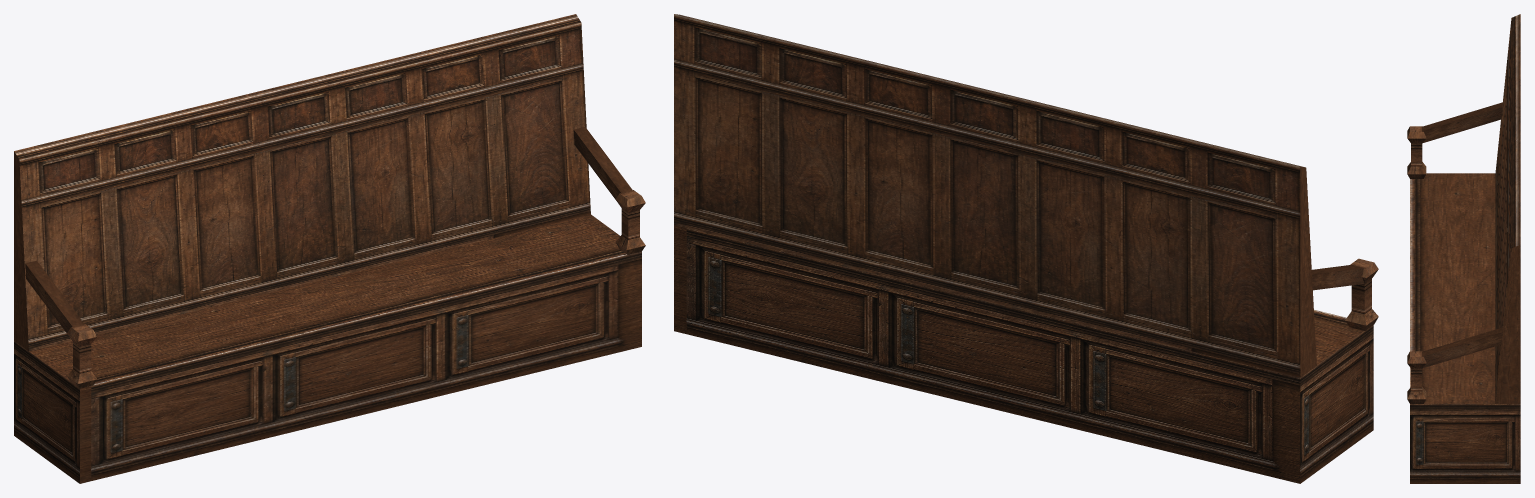
File: mm9_deco_benchlarge1ns.glb
3 views of the same model, side by side, from view 1: azimuth 30°, elevation 25°; view 2: azimuth 150°, elevation 25°; view 3: azimuth 270°, elevation 25° (orthographic). The views are drawn at different scales.
Parts seen in each view (by area): view 1: Benchlarge1ns; view 2: Benchlarge1ns; view 3: Benchlarge1ns.
Boxes of the visible parts, x1,y1,x2,y2 form: Benchlarge1ns: [14, 14, 645, 483]; Benchlarge1ns: [674, 14, 1378, 483]; Benchlarge1ns: [1407, 14, 1520, 483].
Size of the model in its own units: 4.52 by 2.17 by 0.9276.
Materials: 1 (1 with a texture image).
